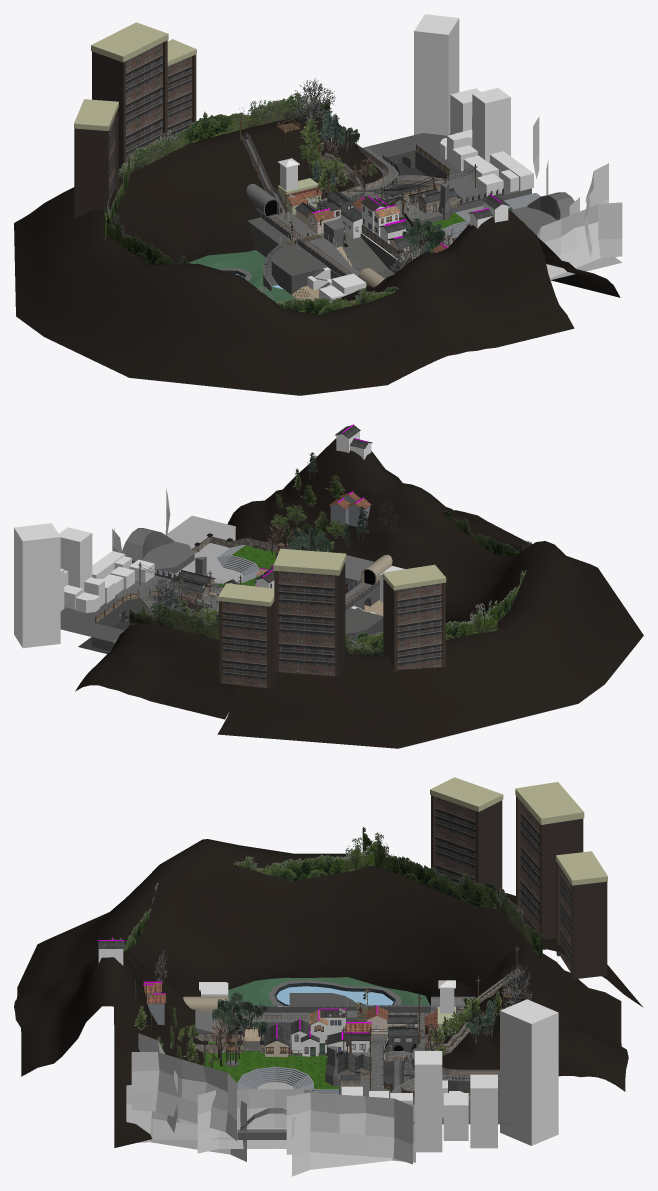
The model's file is physMesh.gltf.
3 renders of one model, top to bottom at view 1: azimuth 30°, elevation 25°; view 2: azimuth 150°, elevation 25°; view 3: azimuth 270°, elevation 25°, orthographic. The views are drawn at different scales.
Parts seen in each view (by area): view 1: Plane.029, Plane.010, Plane, apartmentBuilding1, Cube.109, apartmentBuilding1.001, Plane.045, apartmentBuilding1.002, Cube.108, forestPlane2, forestPlane2.001, Plane.060 (+17 smaller); view 2: Plane.029, Plane.010, apartmentBuilding1, apartmentBuilding1.001, Cube.109, apartmentBuilding1.002, Plane, Plane.028, forestPlane2, Cube.108, forestPlane1, Cube.056 (+11 smaller); view 3: Plane.029, Plane.010, Cube.109, Plane.047, apartmentBuilding1, apartmentBuilding1.001, apartmentBuilding1.002, Plane.044, Plane.042, Plane, Cube.108, forestPlane1 (+17 smaller).
Boxes of the visible parts, x1,y1,x2,y2 form: Plane.029: [14, 139, 620, 395]; Plane.010: [188, 114, 382, 255]; Plane: [247, 133, 531, 294]; apartmentBuilding1: [91, 22, 168, 167]; Cube.109: [414, 14, 459, 135]; apartmentBuilding1.001: [74, 99, 118, 218]; Plane.045: [537, 202, 622, 278]; apartmentBuilding1.002: [167, 39, 196, 139]; Cube.108: [472, 88, 510, 162]; forestPlane2: [205, 93, 329, 138]; forestPlane2.001: [118, 111, 205, 179]; Plane.060: [189, 250, 297, 302]; Plane.029: [217, 438, 643, 748]; Plane.010: [75, 616, 239, 719]; apartmentBuilding1: [273, 548, 346, 677]; apartmentBuilding1.001: [382, 564, 446, 671]; Cube.109: [14, 523, 60, 648]; apartmentBuilding1.002: [218, 583, 275, 689]; Plane: [60, 575, 383, 651]; Plane.028: [167, 515, 243, 582]; forestPlane2: [129, 603, 218, 639]; Cube.108: [59, 527, 92, 592]; forestPlane1: [356, 600, 497, 654]; Cube.056: [132, 541, 194, 573]; Plane.029: [14, 839, 643, 1147]; Plane.010: [430, 946, 628, 1091]; Cube.109: [500, 999, 558, 1145]; Plane.047: [286, 1092, 412, 1164]; apartmentBuilding1: [515, 782, 584, 939]; apartmentBuilding1.001: [430, 777, 503, 891]; apartmentBuilding1.002: [556, 851, 607, 979]; Plane.044: [131, 1052, 236, 1140]; Plane.042: [197, 1089, 325, 1153]; Plane: [242, 993, 510, 1124]; Cube.108: [414, 1051, 442, 1152]; forestPlane1: [362, 827, 496, 908].
Size of the model in its own units: 214 by 77.4 by 189.
8 materials, 7 textured.
